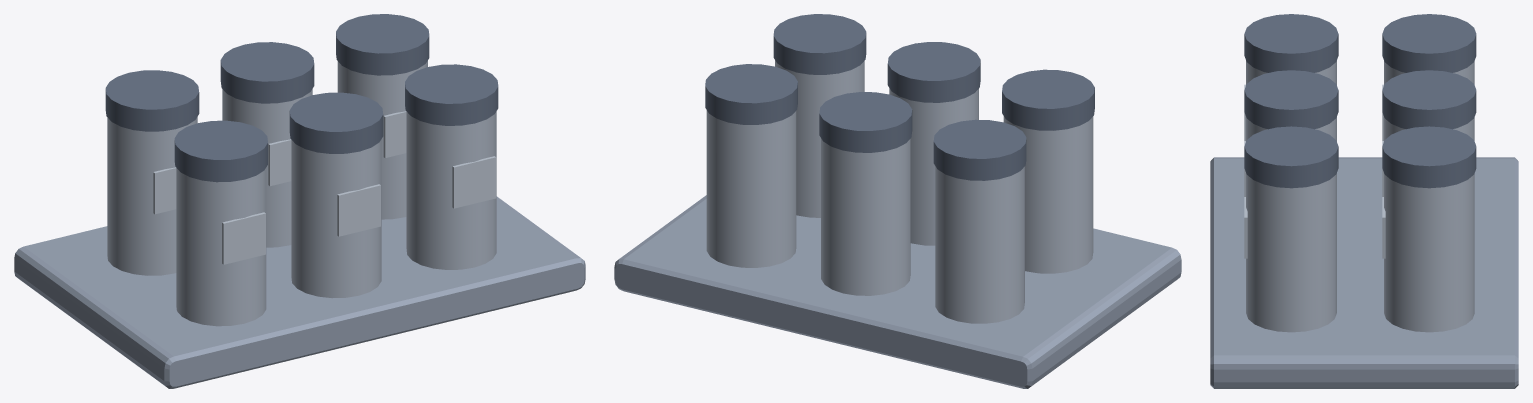
File: spice-set-lite.glb
3 renders of one model, left to right at view 1: azimuth 30°, elevation 25°; view 2: azimuth 150°, elevation 25°; view 3: azimuth 270°, elevation 25°, orthographic.
Parts seen in each view (by area): view 1: soft, body, dark, light; view 2: soft, body, dark; view 3: body, dark, soft, light.
Part boxes in pixels (x1=…): soft: x1=107, y1=60, x2=496, y2=326; body: x1=14, y1=196, x2=585, y2=388; dark: x1=105, y1=14, x2=498, y2=182; light: x1=153, y1=111, x2=496, y2=264; soft: x1=706, y1=60, x2=1093, y2=323; body: x1=614, y1=195, x2=1181, y2=388; dark: x1=705, y1=14, x2=1094, y2=180; body: x1=1210, y1=157, x2=1518, y2=388; dark: x1=1244, y1=14, x2=1476, y2=188; soft: x1=1246, y1=60, x2=1474, y2=332; light: x1=1244, y1=84, x2=1385, y2=258.
Size of the model in its own units: 0.3 by 0.1355 by 0.19.
